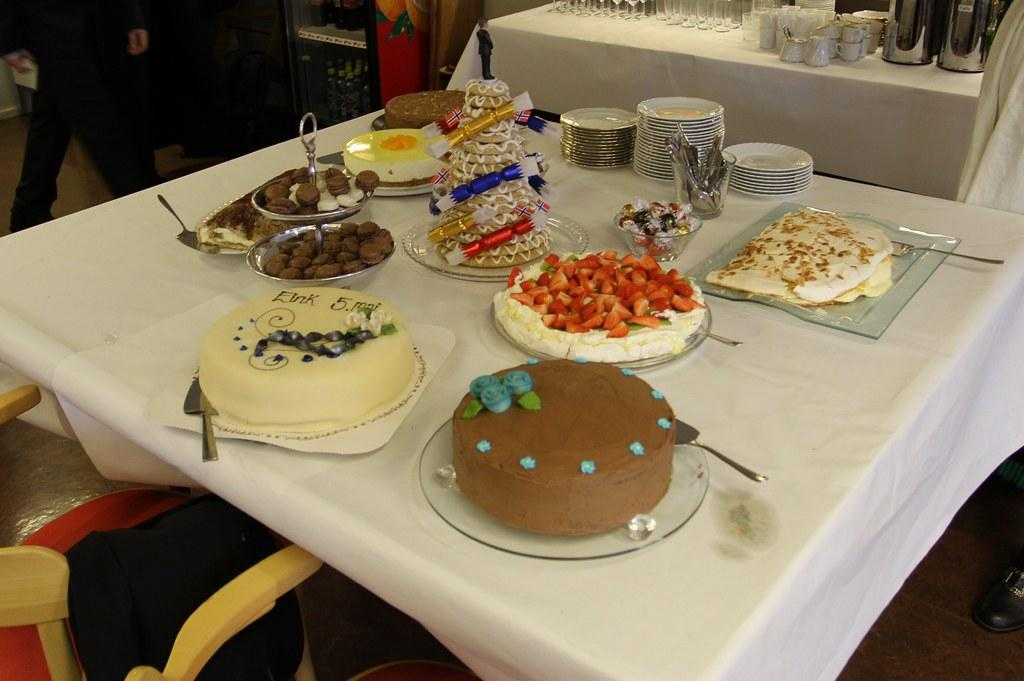table: (1, 97, 1023, 680), (474, 1, 993, 202)
